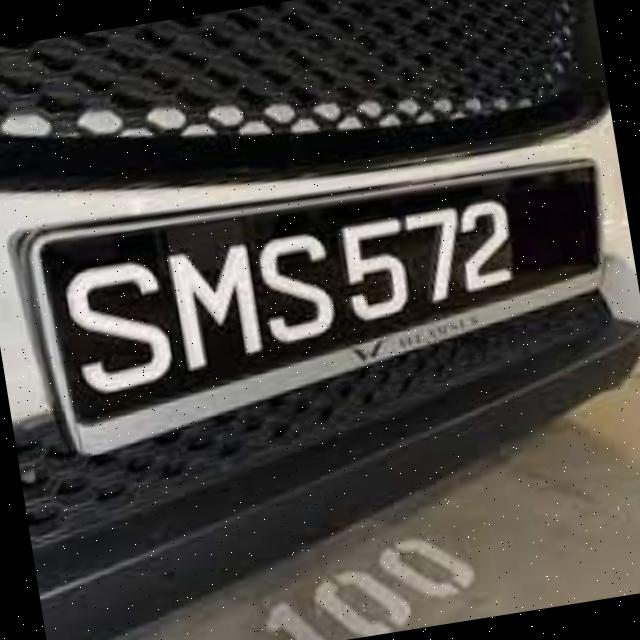License_Plate: (44, 153, 626, 447)
